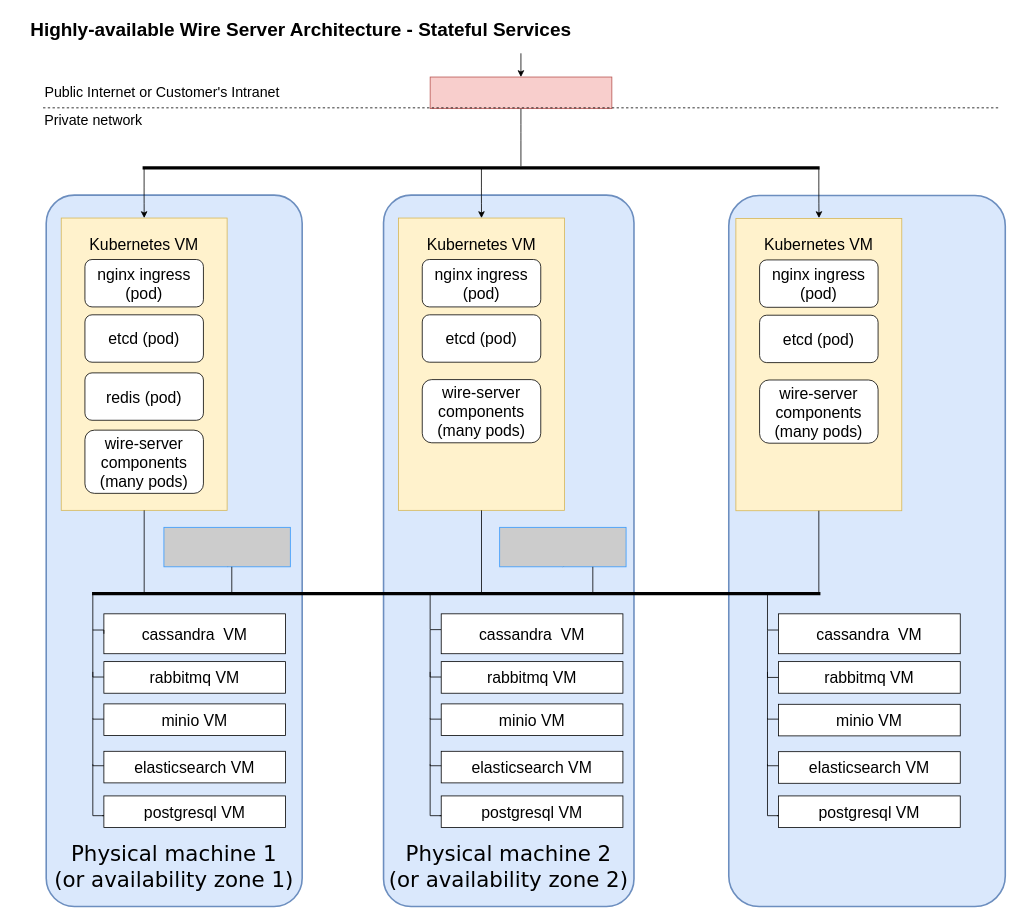
The diagram is 1019 pixels wide and 920 high, and some of its shapes have lost their labels. Each missing label, with the box of its shape:
Admin Host VM: (163, 527, 290, 567)
Asset Host VM: (499, 527, 626, 567)
Loadbalancer(s): (429, 76, 612, 109)
Physical machine 3 (or availability zone 3): (728, 194, 1006, 907)
